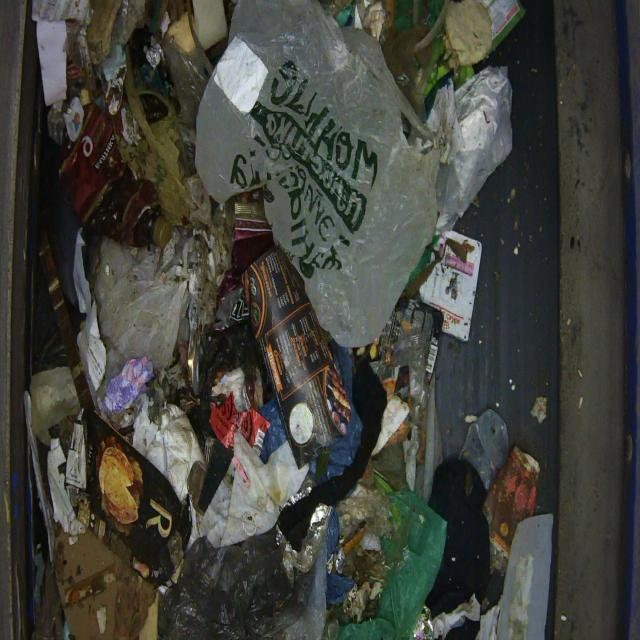other-trash: (22, 0, 540, 638)
plastic-waste: (206, 12, 466, 350)
